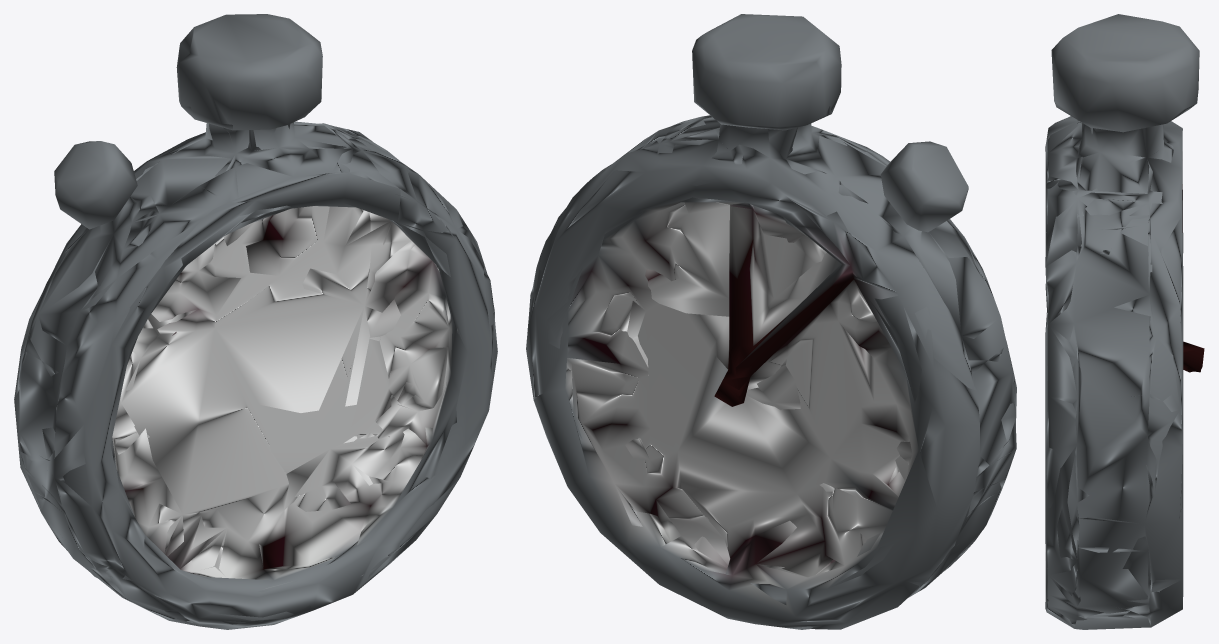
Rendered from gen3d-stopwatch-lod0.glb.
The picture shows the model from 3 angles, left to right: view 1: azimuth 30°, elevation 25°; view 2: azimuth 150°, elevation 25°; view 3: azimuth 270°, elevation 25°; orthographic projection. The views are drawn at different scales.
Parts seen in each view (by area): view 1: part_0; view 2: part_0; view 3: part_0.
Part boxes in pixels (x1,y1,x2,y2): part_0: (14,14,497,629); part_0: (526,14,1016,629); part_0: (1045,14,1204,629).
Size of the model in its own units: 0.8214 by 1 by 0.2547.
